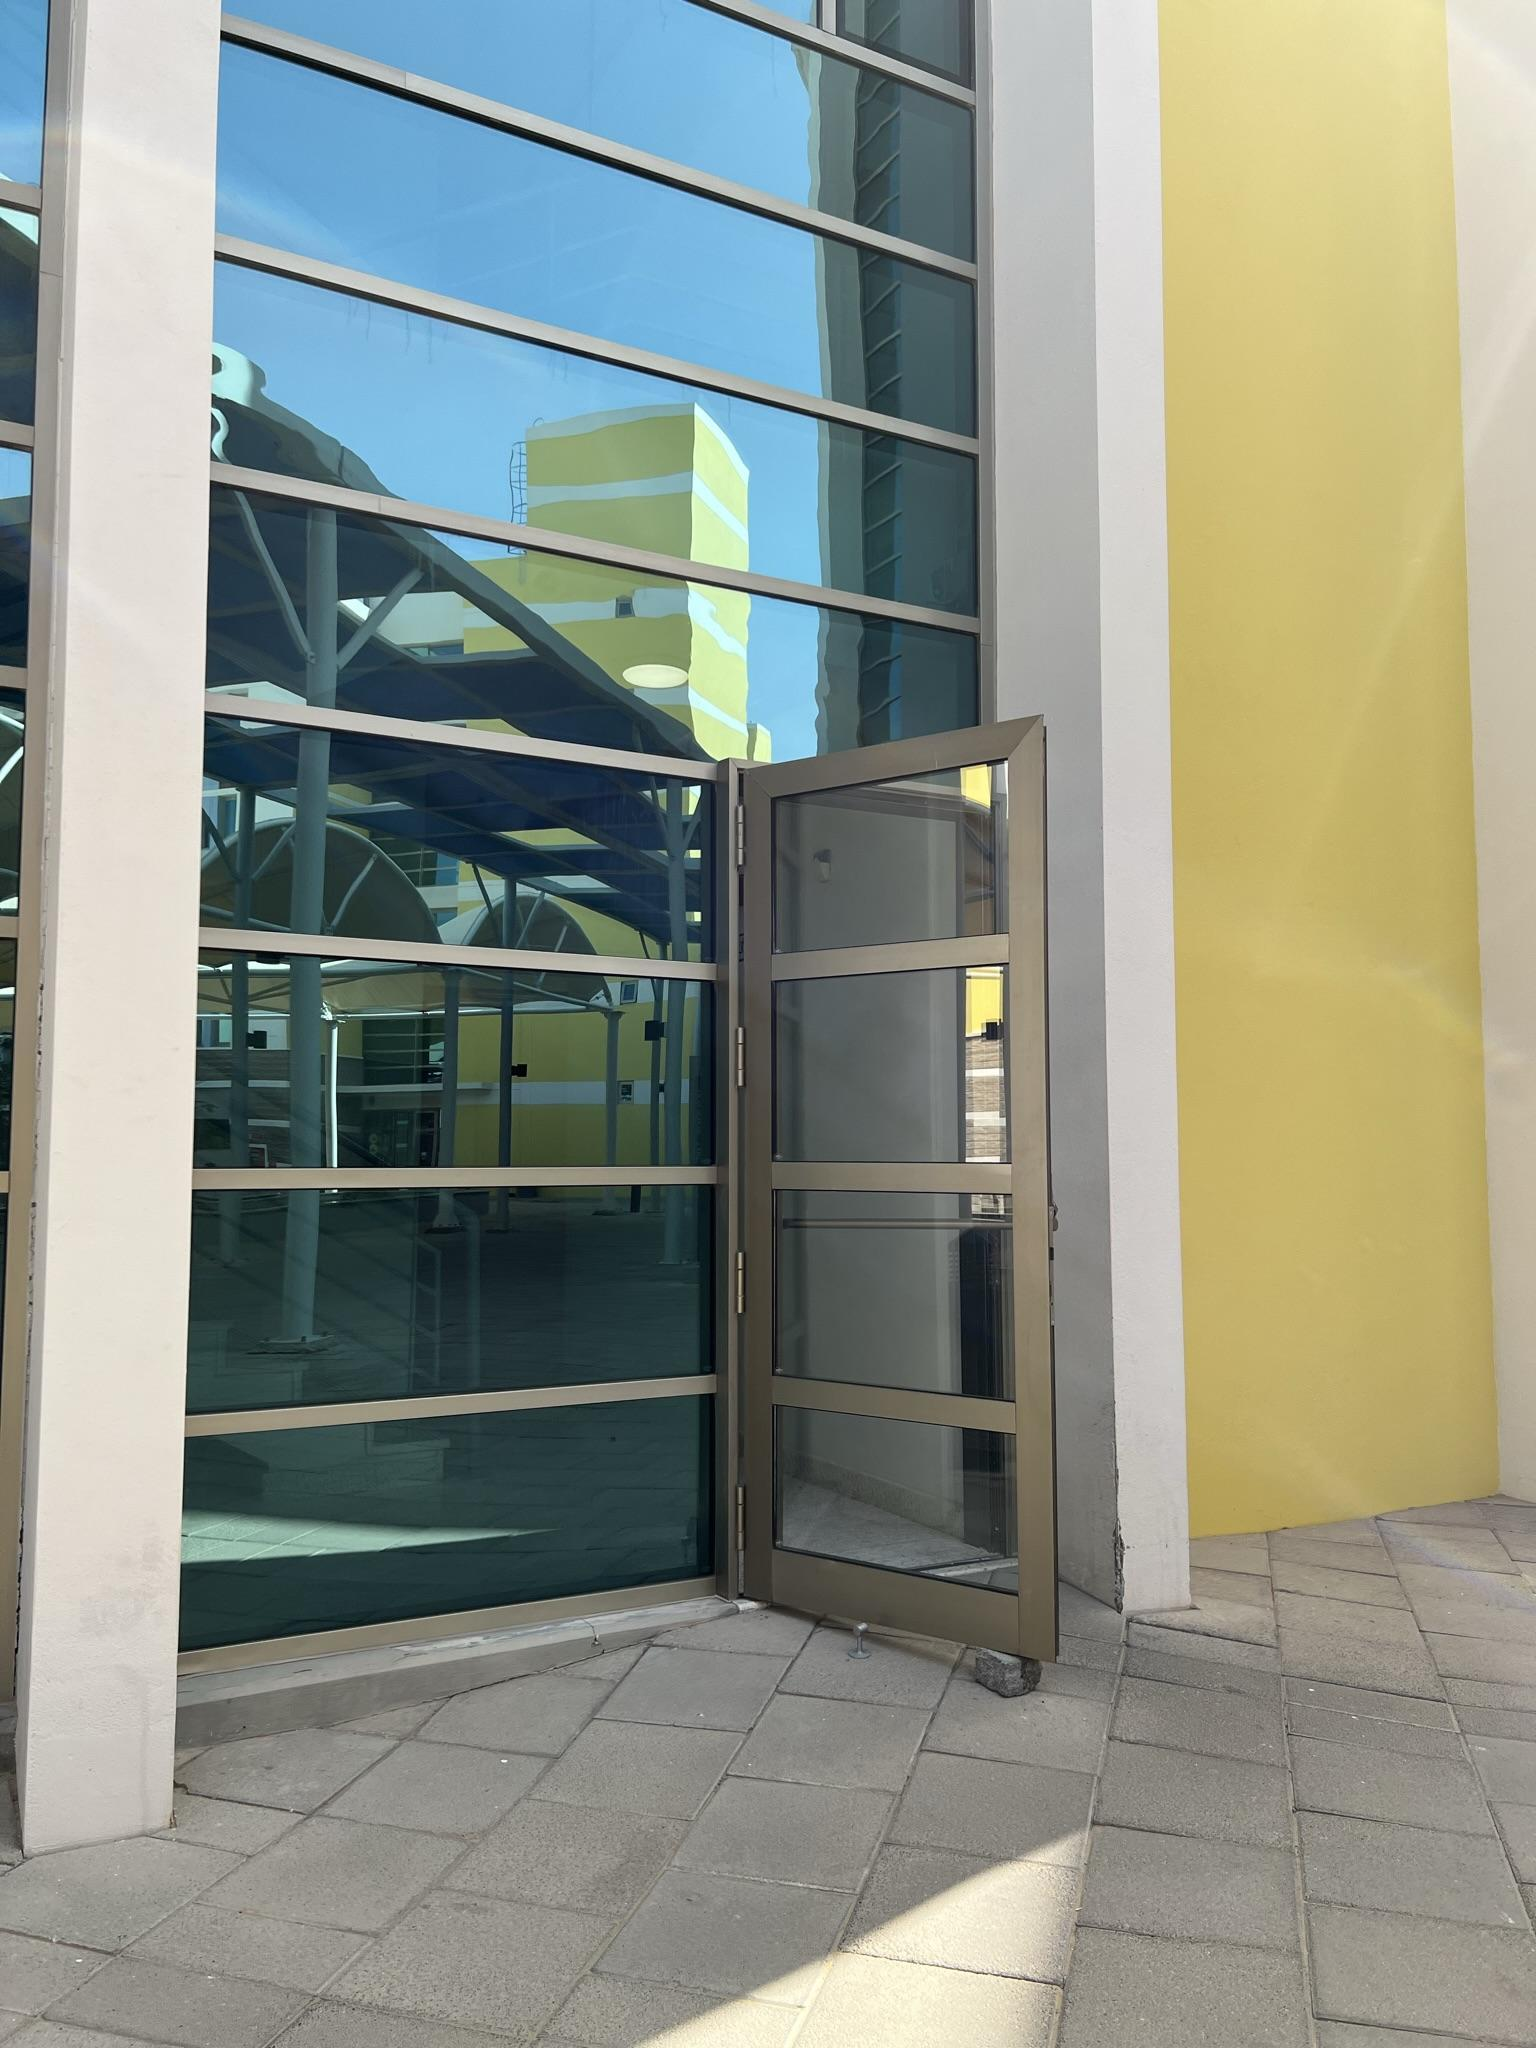door: (742, 742, 1065, 1655)
